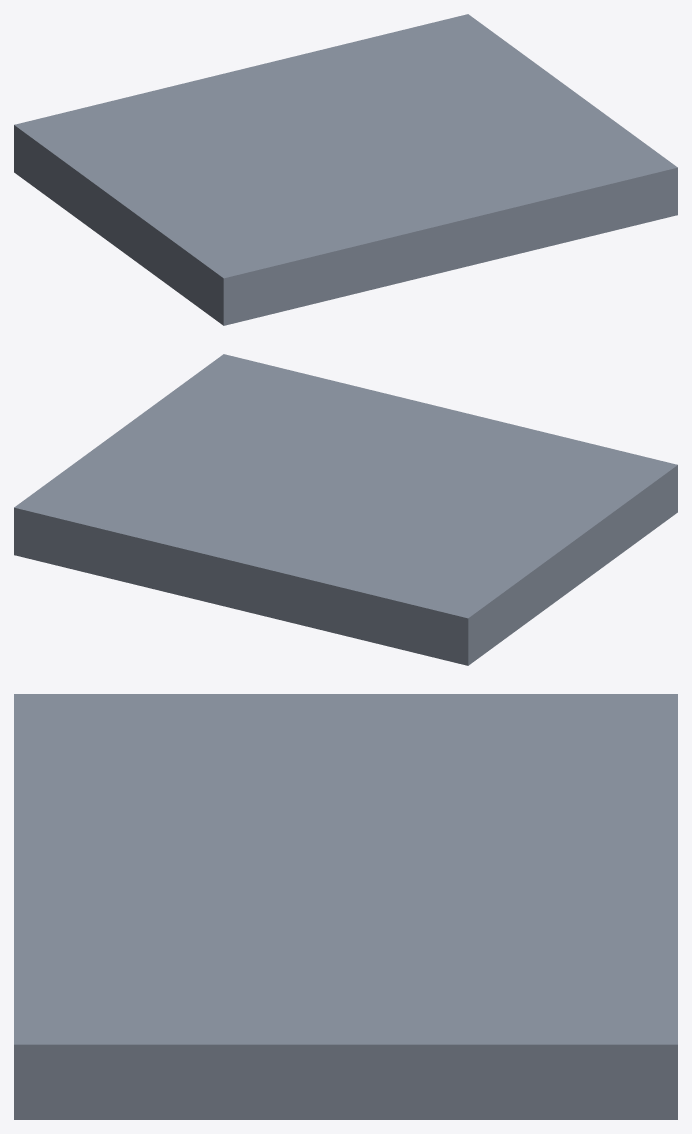
File: step-1-preview-1.glb
The picture shows the model from 3 angles, top to bottom: view 1: azimuth 30°, elevation 25°; view 2: azimuth 150°, elevation 25°; view 3: azimuth 270°, elevation 25°; orthographic projection. The views are drawn at different scales.
Parts seen in each view (by area): view 1: preview_5, preview_2, preview_0; view 2: preview_5, preview_3, preview_0; view 3: preview_5, preview_1.
Part boxes in pixels (x1=…): preview_5: x1=14, y1=14, x2=677, y2=278; preview_2: x1=223, y1=167, x2=677, y2=325; preview_0: x1=14, y1=125, x2=223, y2=325; preview_5: x1=14, y1=354, x2=677, y2=618; preview_3: x1=14, y1=507, x2=468, y2=665; preview_0: x1=468, y1=465, x2=677, y2=665; preview_5: x1=14, y1=694, x2=677, y2=1044; preview_1: x1=14, y1=1044, x2=677, y2=1119.
Size of the model in its own units: 0.05 by 0.005 by 0.04.
